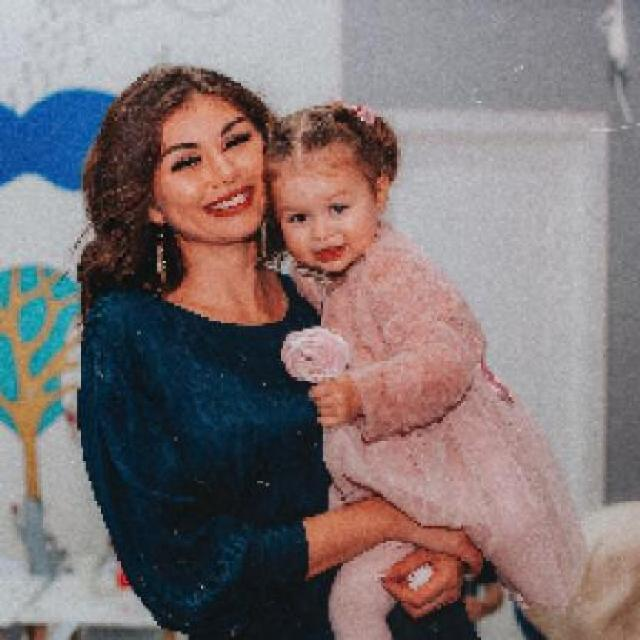child: (266, 100, 594, 637)
